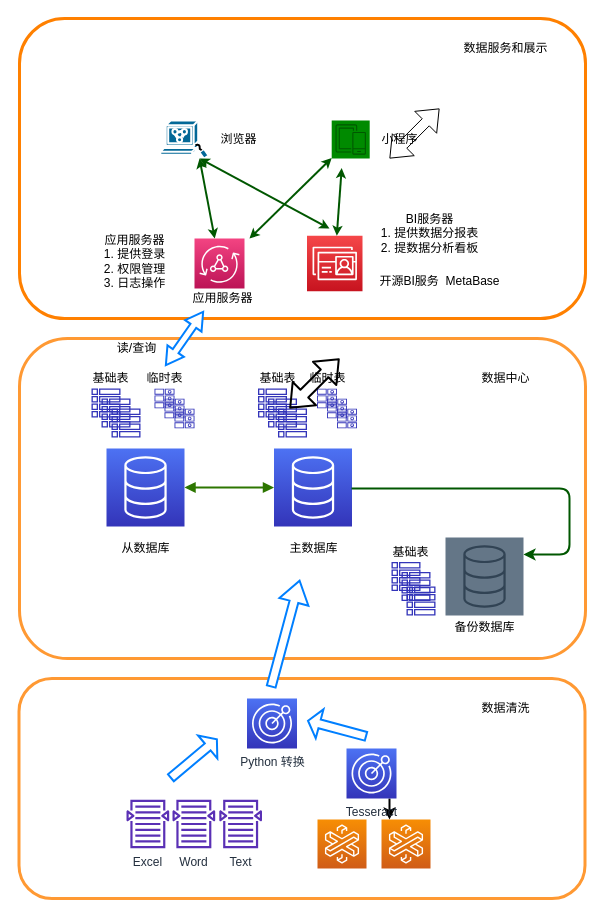
Image size: 604x917. Some labels were removed from this diagram. The shapes that lost their labels are listed below. From the top down, each one's centre as x and y in pixels, then its label:
pixel 341 843: 图片
pixel 405 843: PDF
